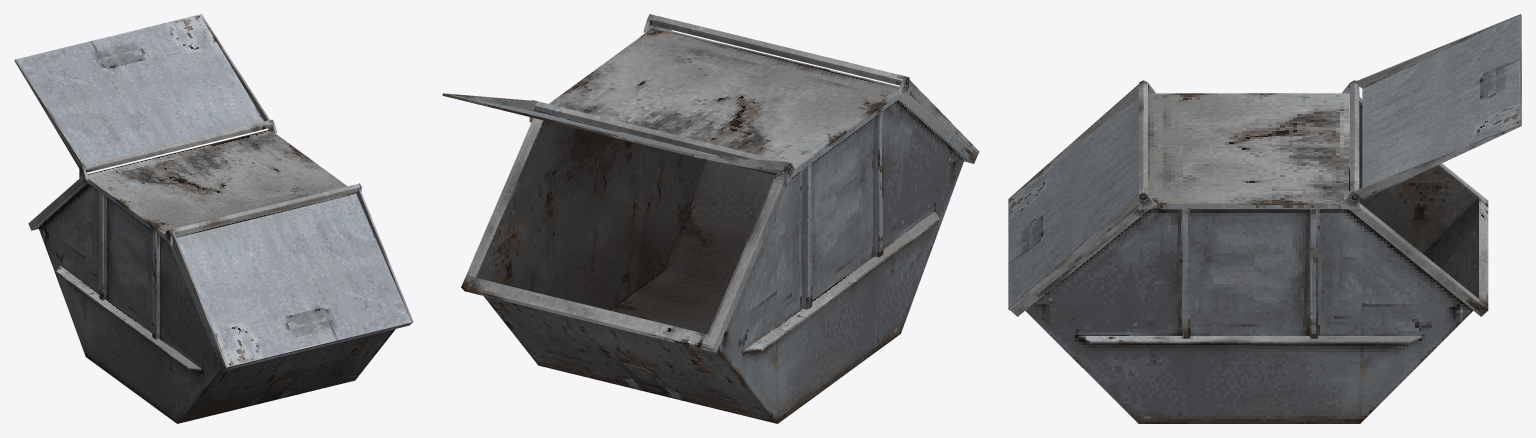
The model's file is trash_container.glb.
3 views of the same model, side by side, from view 1: azimuth 30°, elevation 25°; view 2: azimuth 150°, elevation 25°; view 3: azimuth 270°, elevation 25° (orthographic). The views are drawn at different scales.
Parts seen in each view (by area): view 1: container, Door1, Door2; view 2: container, Door2, Door1; view 3: container, Door2, Door1.
Boxes of the visible parts, x1,y1,x2,y2 form: container: (28, 119, 411, 423); Door1: (172, 187, 413, 368); Door2: (14, 14, 269, 168); container: (461, 14, 977, 423); Door2: (442, 93, 786, 174); Door1: (653, 25, 979, 153); container: (1010, 80, 1488, 423); Door2: (1355, 14, 1521, 199); Door1: (1008, 84, 1138, 310).
Bounding box in the file's own units: 1.04 × 1.26 × 1.94.
Materials: 1 (1 with a texture image).
